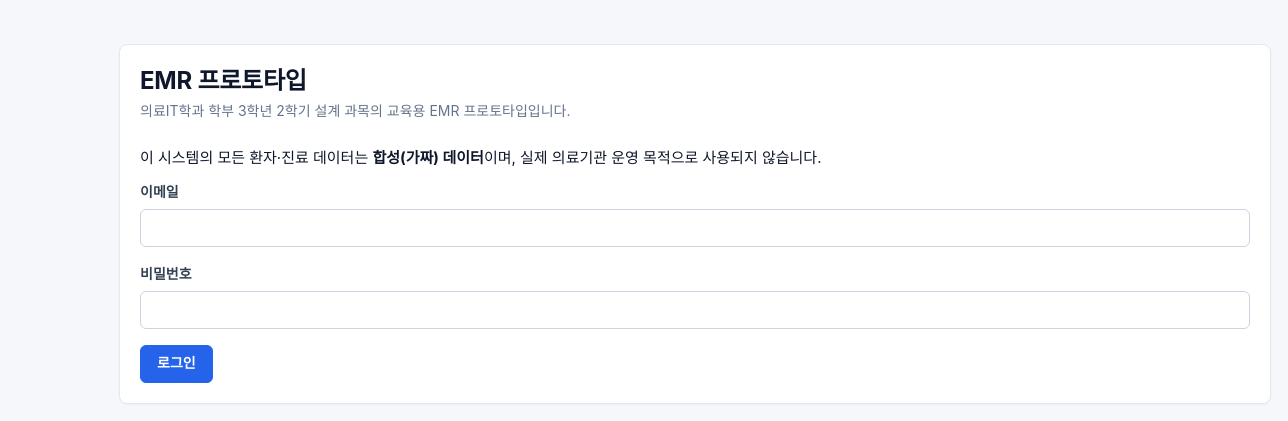
Scenario: LoginPage › navigates to /unsupported-role for a role with no dedicated screen yet
In the field labelled "이메일": (695, 228) x1=140 y1=209 x2=1250 y2=247, type "nurse1@example.test"
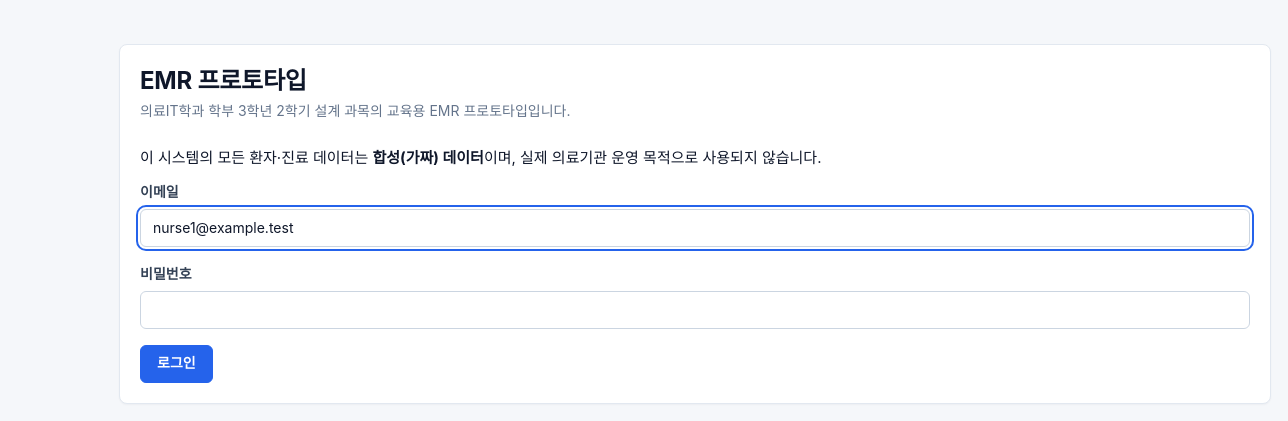
In the password field labelled "비밀번호": (695, 310) x1=140 y1=290 x2=1250 y2=328, type "demo1234"
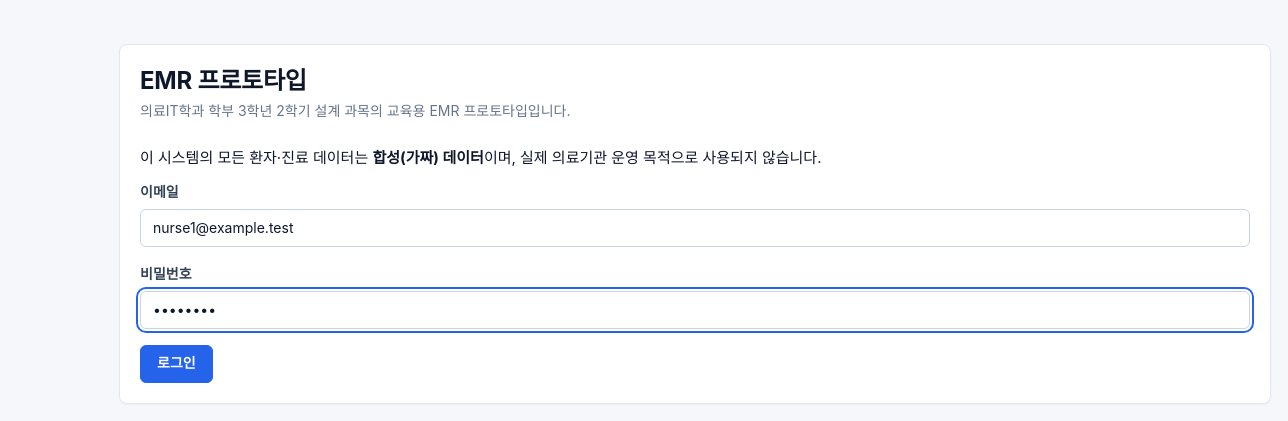
Click the button "로그인": click(176, 364) x1=140 y1=344 x2=213 y2=382
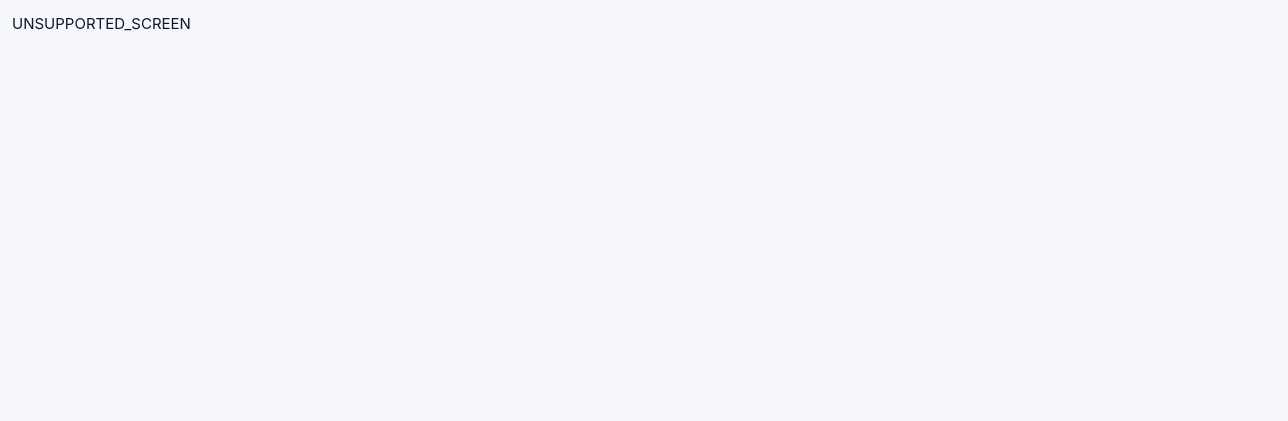
Expected: the text "UNSUPPORTED_SCREEN" is shown, x1=12 y1=14 x2=191 y2=33
